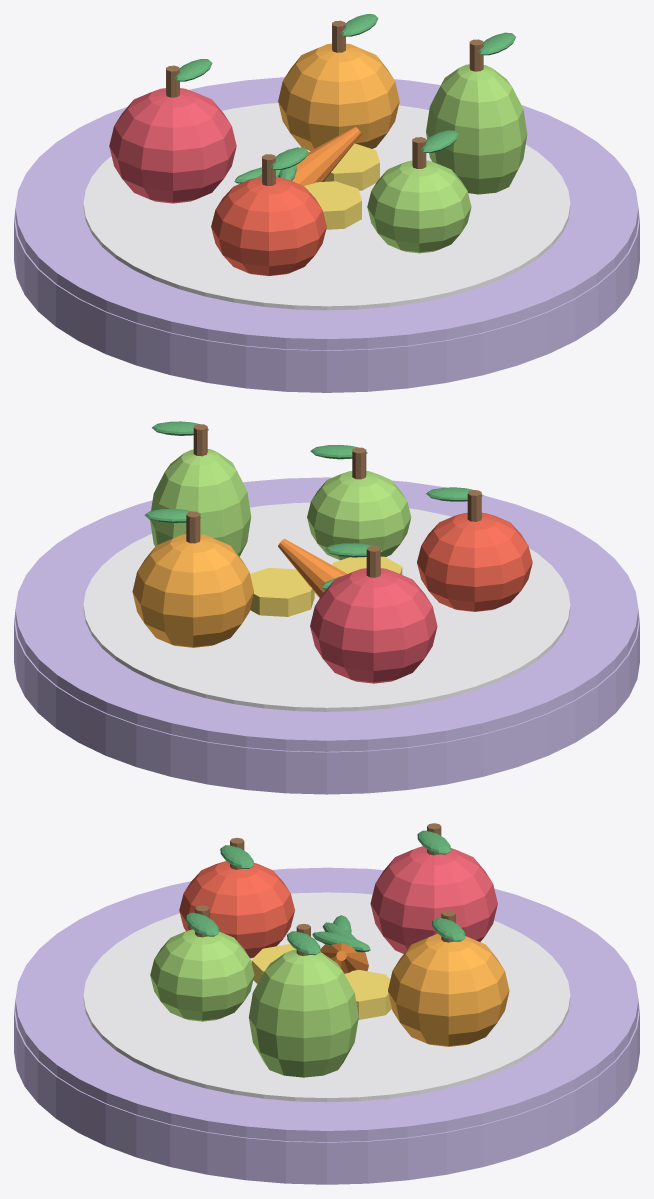
The model's file is piring-buah-desimal.glb.
The picture shows the model from 3 angles, top to bottom: view 1: azimuth 30°, elevation 25°; view 2: azimuth 150°, elevation 25°; view 3: azimuth 270°, elevation 25°; orthographic projection.
Parts seen in each view (by area): view 1: Plate_Rim, Plate_Center, Plate_Base, Apple_Body, Orange_Body, Pear_Body, Tomato_Body, Lime_Body, Wedge_2, Carrot_Body, Wedge_1, Pear_Leaf (+4 smaller); view 2: Plate_Rim, Plate_Center, Plate_Base, Apple_Body, Orange_Body, Tomato_Body, Pear_Body, Lime_Body, Wedge_1, Carrot_Body, Wedge_2, Tomato_Leaf (+4 smaller); view 3: Plate_Rim, Plate_Center, Plate_Base, Pear_Body, Orange_Body, Apple_Body, Lime_Body, Tomato_Body, Wedge_1, Carrot_Body, Wedge_2, Carrot_Leaf_3 (+5 smaller).
Boxes of the visible parts, left/top/right/bottom form: Plate_Rim: left=15, top=77, right=638, bottom=350; Plate_Center: left=83, top=103, right=570, bottom=310; Plate_Base: left=14, top=211, right=639, bottom=392; Apple_Body: left=109, top=88, right=236, bottom=203; Orange_Body: left=278, top=43, right=399, bottom=150; Pear_Body: left=426, top=64, right=527, bottom=194; Tomato_Body: left=211, top=177, right=326, bottom=275; Lime_Body: left=367, top=160, right=471, bottom=253; Wedge_2: left=304, top=181, right=361, bottom=229; Carrot_Body: left=292, top=126, right=361, bottom=185; Wedge_1: left=323, top=143, right=379, bottom=190; Pear_Leaf: left=478, top=32, right=515, bottom=55; Plate_Rim: left=15, top=477, right=638, bottom=751; Plate_Center: left=83, top=502, right=570, bottom=711; Plate_Base: left=14, top=613, right=639, bottom=794; Apple_Body: left=310, top=568, right=437, bottom=683; Orange_Body: left=132, top=534, right=253, bottom=647; Tomato_Body: left=417, top=512, right=532, bottom=611; Pear_Body: left=150, top=449, right=251, bottom=556; Lime_Body: left=307, top=471, right=411, bottom=560; Wedge_1: left=250, top=568, right=314, bottom=616; Carrot_Body: left=278, top=539, right=347, bottom=598; Wedge_2: left=332, top=556, right=402, bottom=574; Tomato_Leaf: left=426, top=487, right=483, bottom=501; Plate_Rim: left=15, top=867, right=638, bottom=1141; Plate_Center: left=83, top=892, right=570, bottom=1102; Plate_Base: left=14, top=1003, right=639, bottom=1184; Pear_Body: left=248, top=949, right=358, bottom=1077; Orange_Body: left=388, top=933, right=509, bottom=1046; Apple_Body: left=370, top=846, right=497, bottom=953; Lime_Body: left=150, top=929, right=254, bottom=1021; Tomato_Body: left=179, top=861, right=294, bottom=958; Wedge_1: left=344, top=970, right=391, bottom=1019; Carrot_Body: left=320, top=943, right=368, bottom=973; Wedge_2: left=251, top=944, right=295, bottom=983; Carrot_Leaf_3: left=312, top=931, right=370, bottom=952.
Size of the model in its own units: 2.16 by 0.735 by 2.16.
